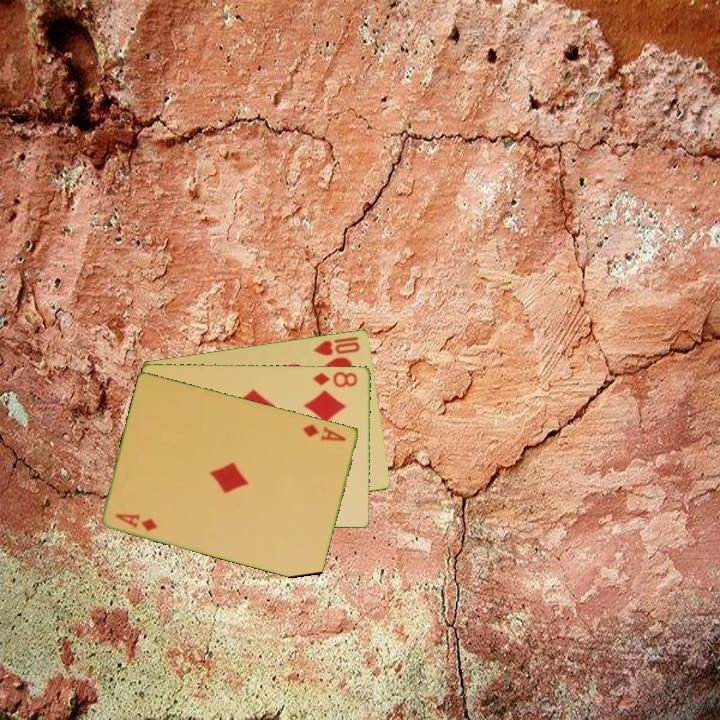10h: (310, 332, 363, 358)
8d: (310, 368, 360, 390)
Ad: (299, 420, 349, 444), (112, 510, 161, 534)
